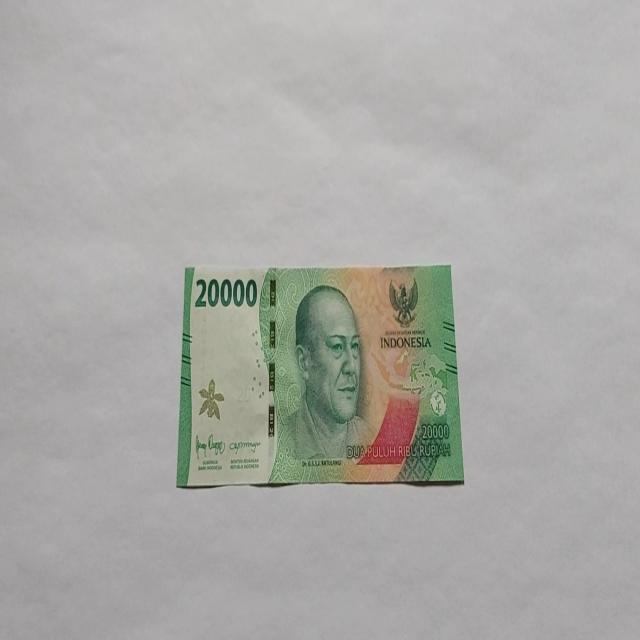dua puluh ribu rupiah: (176, 262, 464, 489), (269, 282, 378, 482)
